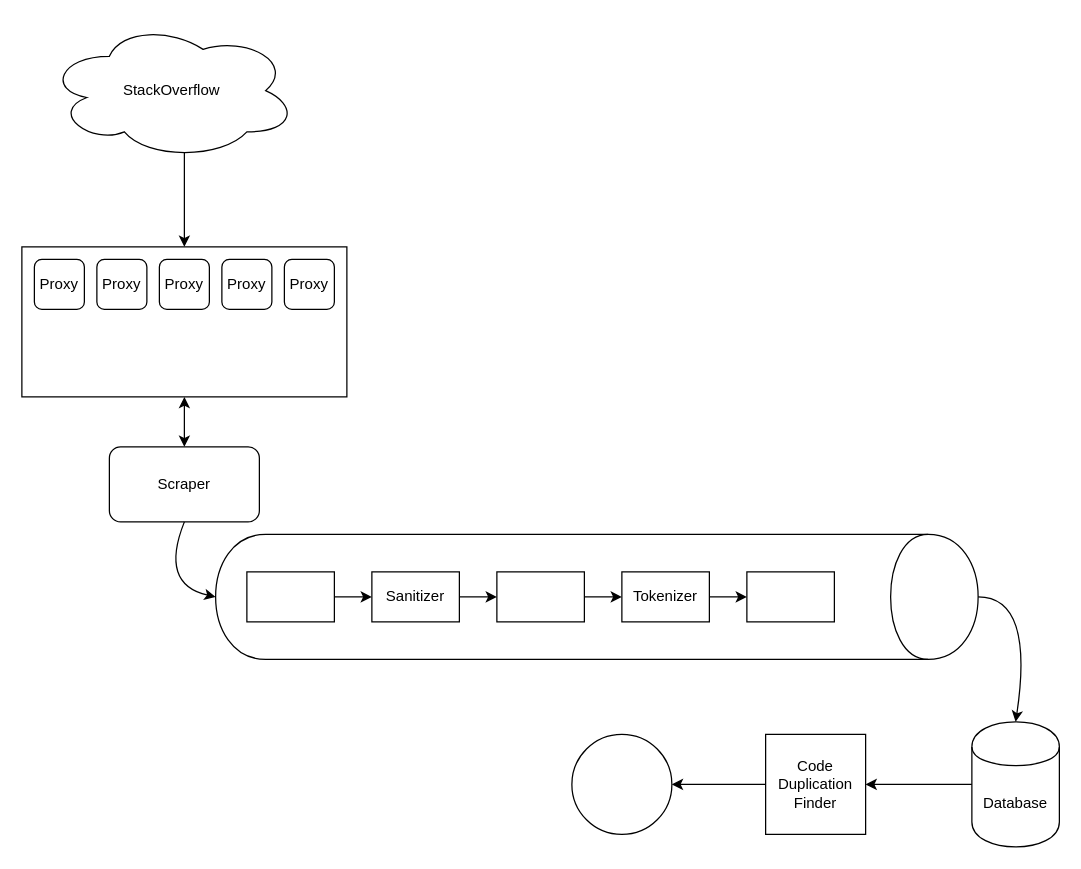
The diagram is 1081 pixels wide and 869 high, and some of its shapes have lost their labels. The box of each missing label's shape, as (x1, y1, x2, y2) in pixels:
Archeteuthis: (21, 246, 347, 397)
Code Duplicates: (571, 733, 672, 834)
Filter: (496, 571, 584, 622)
Keyword Extractor: (746, 571, 834, 622)
Processor: (246, 571, 334, 622)
